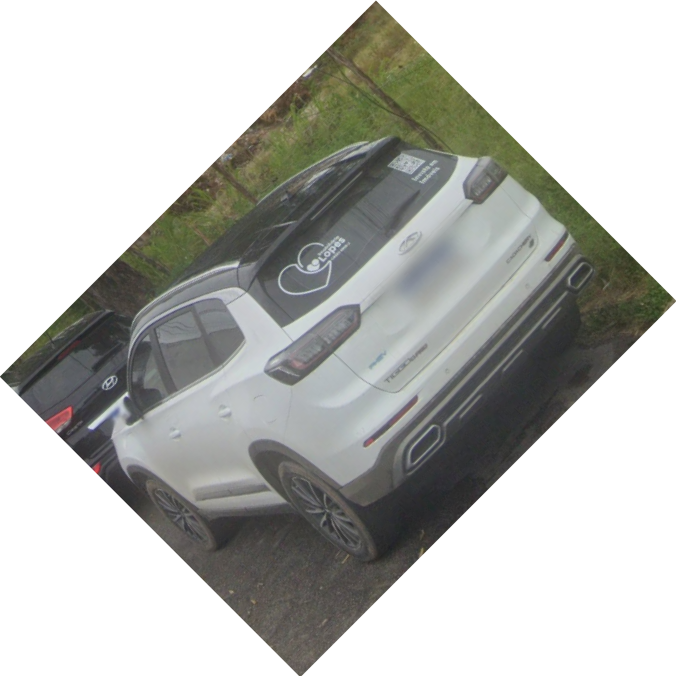car: (114, 128, 589, 562)
